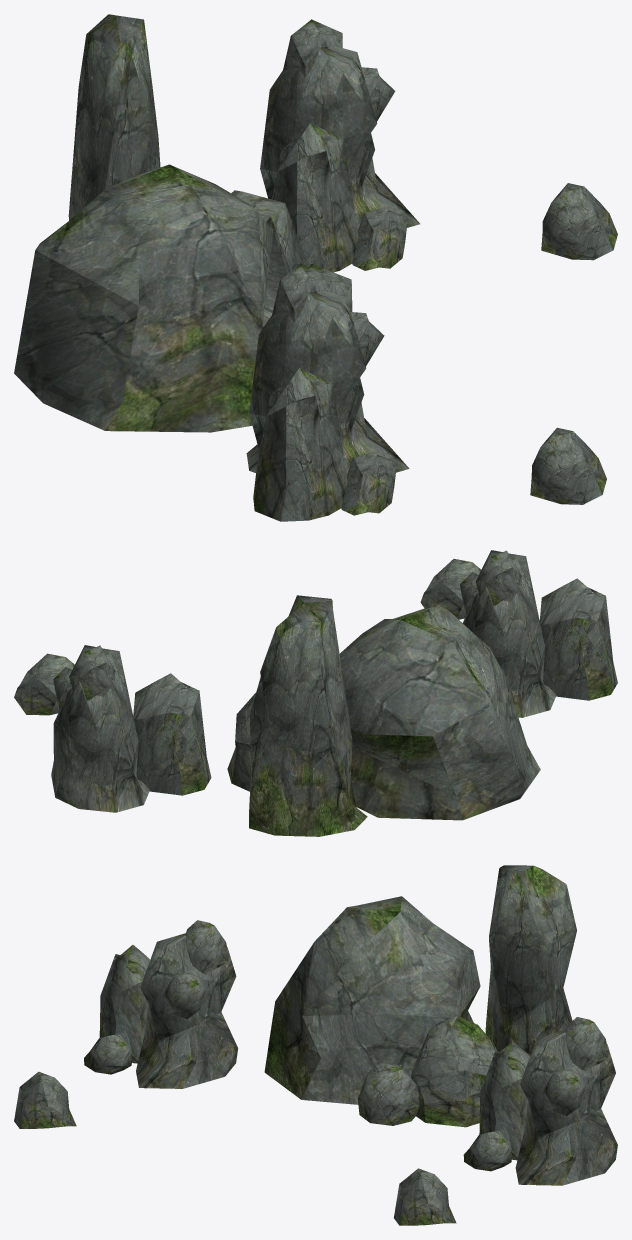
The picture shows the model from 3 angles, top to bottom: view 1: azimuth 30°, elevation 25°; view 2: azimuth 150°, elevation 25°; view 3: azimuth 270°, elevation 25°; orthographic projection. The views are drawn at different scales.
Visible parts, largest first — view 1: cgtsj_com; view 2: cgtsj_com; view 3: cgtsj_com.
Boxes of the visible parts, box(x1,y1,x2,y2) form: cgtsj_com: box(14, 14, 617, 521); cgtsj_com: box(14, 550, 617, 836); cgtsj_com: box(14, 865, 617, 1225).
Size of what is drawn, in the model's own units: 0.4685 by 0.2003 by 0.5194.
1 material, 1 textured.
